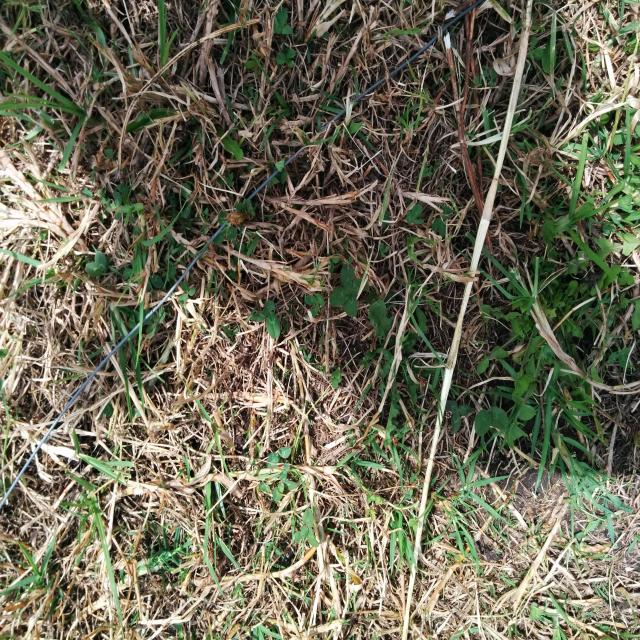Four Leaf Clover: (330, 263, 369, 317)
